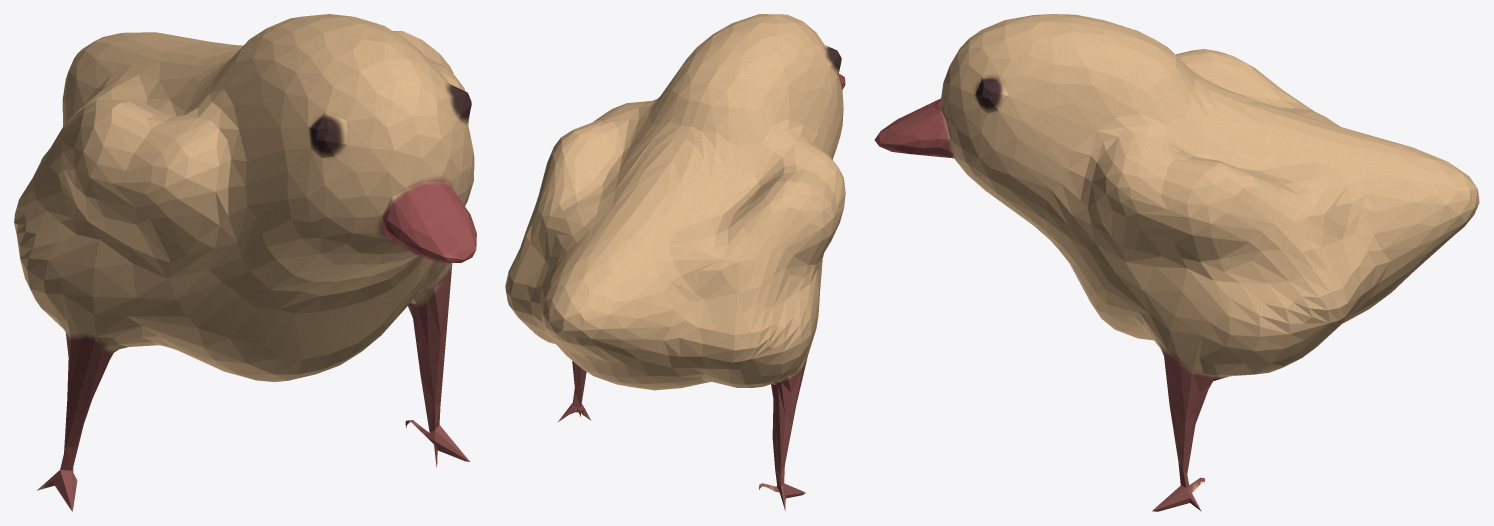
File: chicken_3.obj
3 views of the same model, side by side, from view 1: azimuth 30°, elevation 25°; view 2: azimuth 150°, elevation 25°; view 3: azimuth 270°, elevation 25° (orthographic). The views are drawn at different scales.
Parts seen in each view (by area): view 1: TRYout:Group36674_Group36674; view 2: TRYout:Group36674_Group36674; view 3: TRYout:Group36674_Group36674.
Boxes of the visible parts, box(x1,y1,x2,y2) form: TRYout:Group36674_Group36674: box(14, 14, 476, 511); TRYout:Group36674_Group36674: box(505, 14, 845, 511); TRYout:Group36674_Group36674: box(874, 14, 1479, 511).
Bounding box in the file's own units: 3.79 × 4.82 × 6.22.
Materials: 1 (1 with a texture image).
